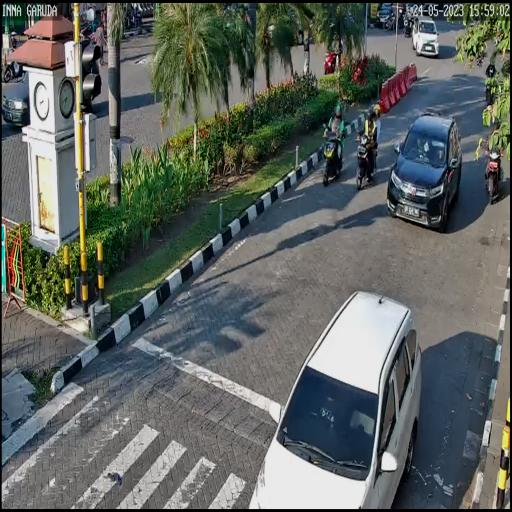mobil: (247, 288, 423, 512), (386, 112, 462, 234), (412, 15, 440, 59)
motor: (355, 129, 379, 192), (321, 123, 344, 186), (485, 147, 504, 206)
